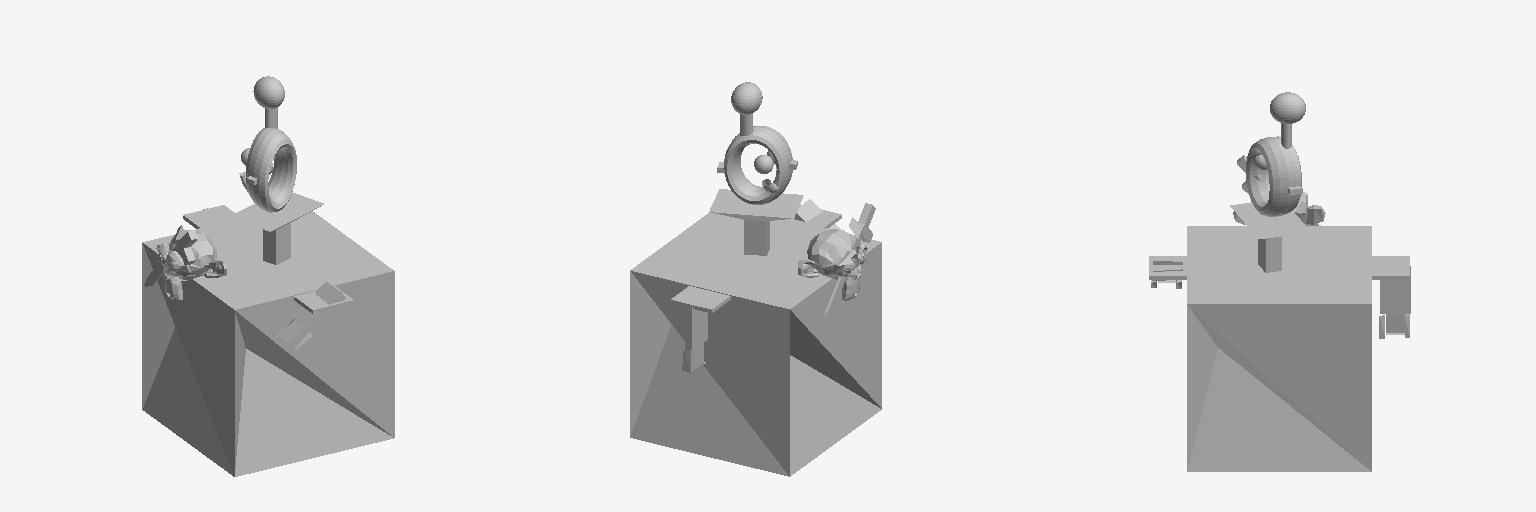
File: Robot_000043.obj
The picture shows the model from 3 angles: view 1: azimuth 30°, elevation 25°; view 2: azimuth 150°, elevation 25°; view 3: azimuth 270°, elevation 25°; orthographic projection.
Visible parts, largest first — view 1: Cube.001_Cube, Cube_Cube.001, Suzanne, Left_Hand.001_Cube.005, Cube.002_Cube.004, Cube.003_Cube.006, Sphere; view 2: Cube.001_Cube, Cube_Cube.001, Suzanne, Cube.002_Cube.004, Left_Hand_Cube.002, Cube.003_Cube.006, Sphere; view 3: Cube.001_Cube, Cube_Cube.001, Left_Hand_Cube.002, Cube.002_Cube.004, Sphere, Suzanne.
Boxes of the visible parts, box(x1,y1,x2,y2) form: Cube.001_Cube: box(142, 211, 394, 476); Cube_Cube.001: box(229, 128, 323, 264); Suzanne: box(156, 230, 226, 300); Left_Hand.001_Cube.005: box(276, 282, 345, 352); Cube.002_Cube.004: box(183, 205, 353, 313); Cube.003_Cube.006: box(144, 225, 197, 286); Sphere: box(253, 76, 284, 108); Cube.001_Cube: box(630, 212, 881, 476); Cube_Cube.001: box(709, 126, 803, 255); Suzanne: box(798, 229, 867, 300); Cube.002_Cube.004: box(670, 204, 841, 313); Left_Hand_Cube.002: box(682, 304, 707, 372); Cube.003_Cube.006: box(822, 203, 875, 326); Sphere: box(731, 82, 762, 114); Cube.001_Cube: box(1187, 226, 1371, 471); Cube_Cube.001: box(1230, 136, 1310, 272); Left_Hand_Cube.002: box(1379, 266, 1410, 338); Cube.002_Cube.004: box(1149, 256, 1409, 279); Sphere: box(1270, 92, 1305, 123); Suzanne: box(1233, 192, 1325, 224).
Bounding box in the file's own units: 2.3 × 4.08 × 2.83.